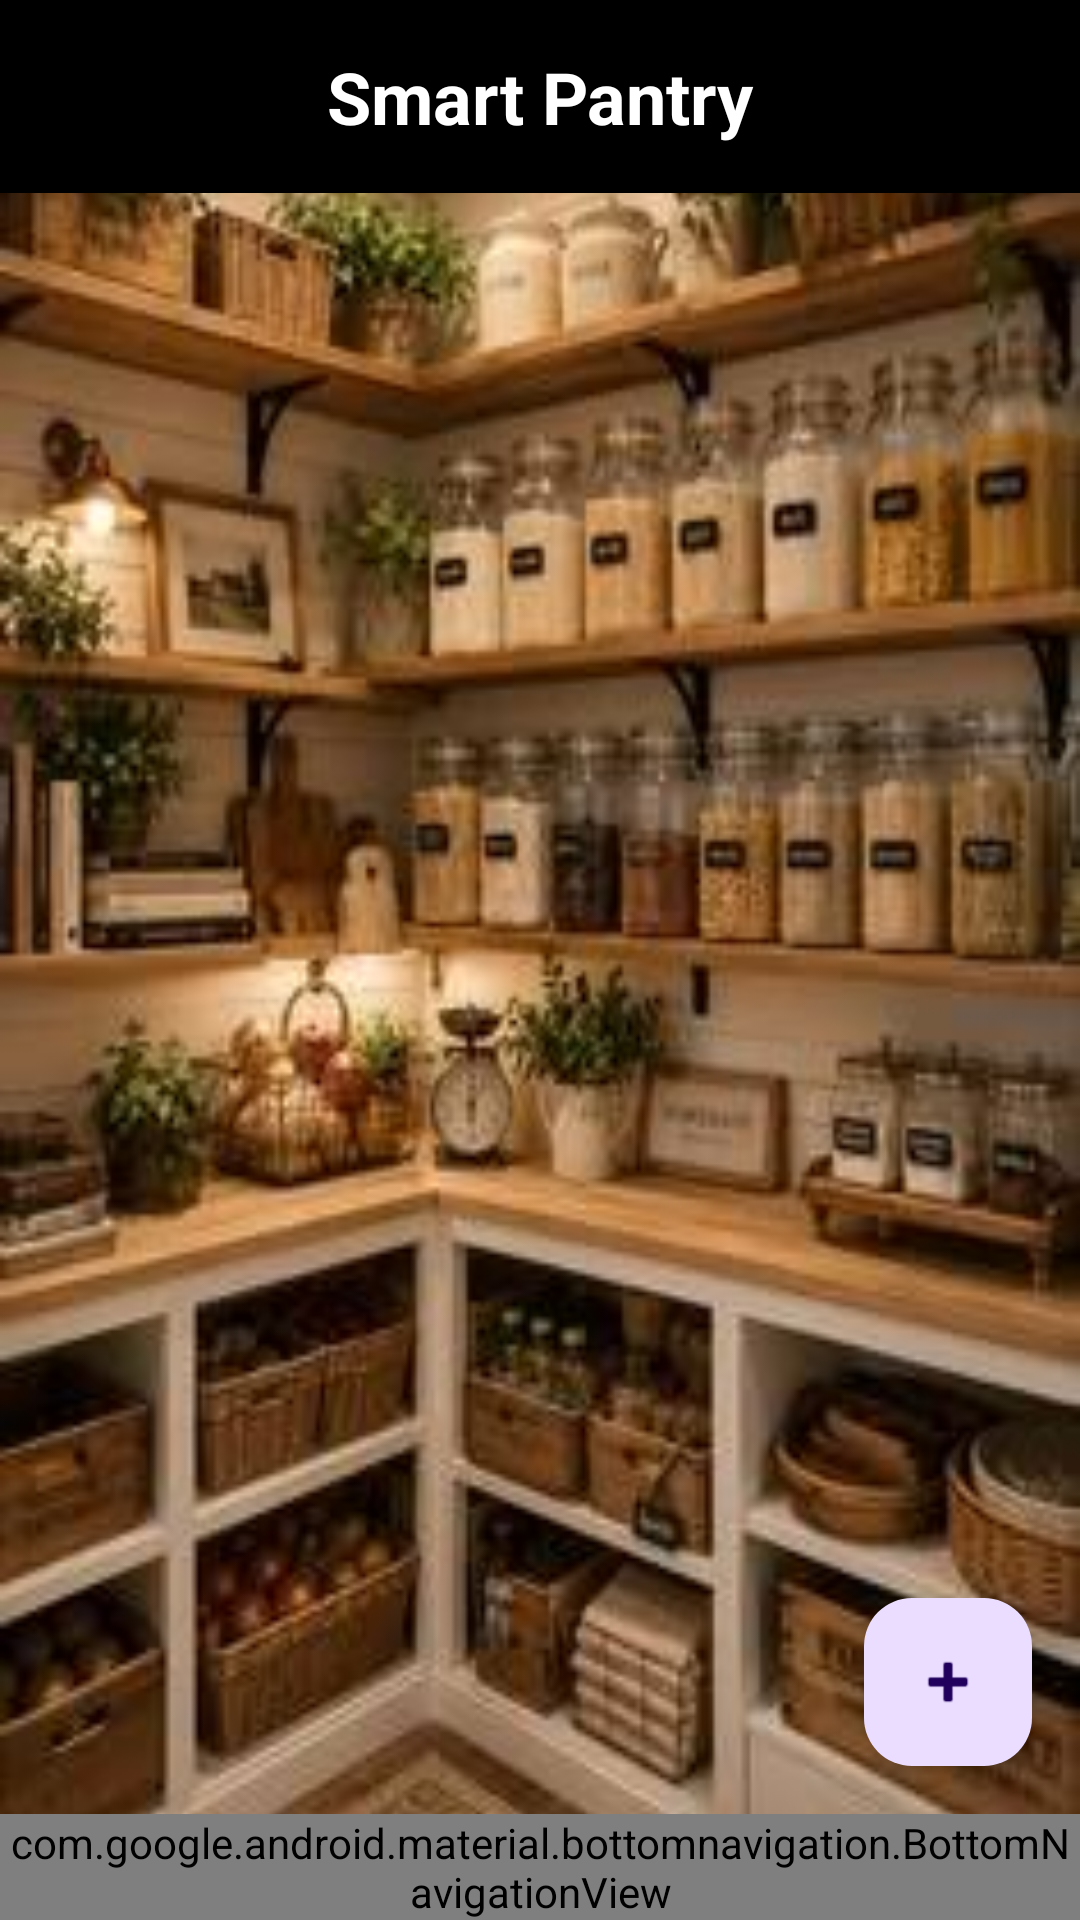

Point at icon controls on the screen. Image size 1080w x 1920h, points as (x,y).
Add item: (948,1682)
